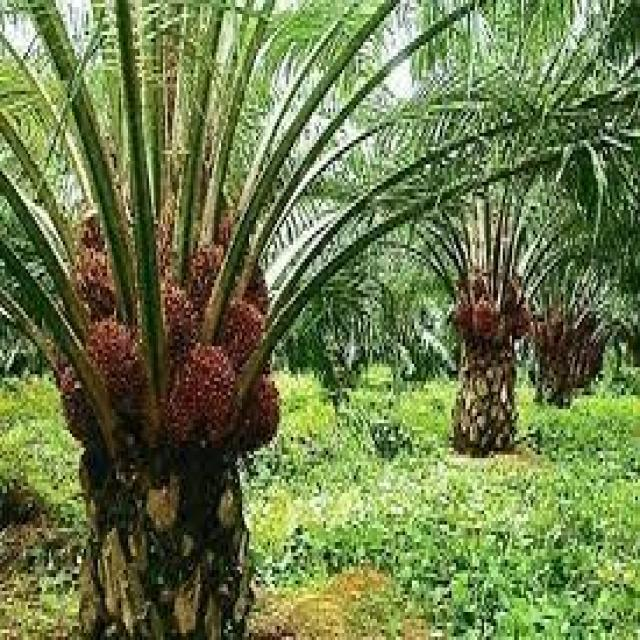Ripefruit: (178, 337, 236, 432), (91, 320, 142, 404), (218, 290, 266, 353), (471, 296, 502, 344)
